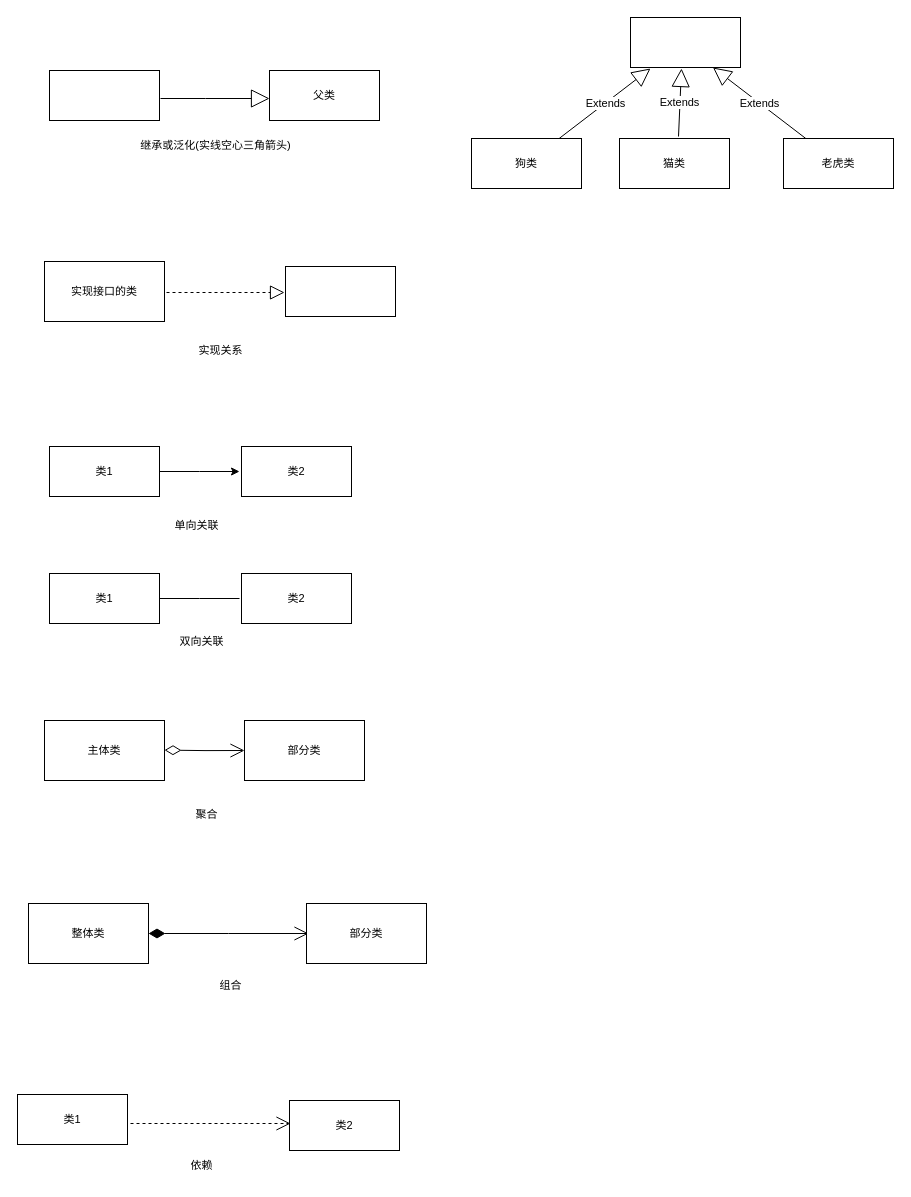
This 911x1197 diagram has some shape labels left out. Here are the shapes that lost their labels. From the top down, the centre of each, then its label:
[685,42]: 动物类
[104,95]: 子类
[340,291]: <<interface>> 接口
